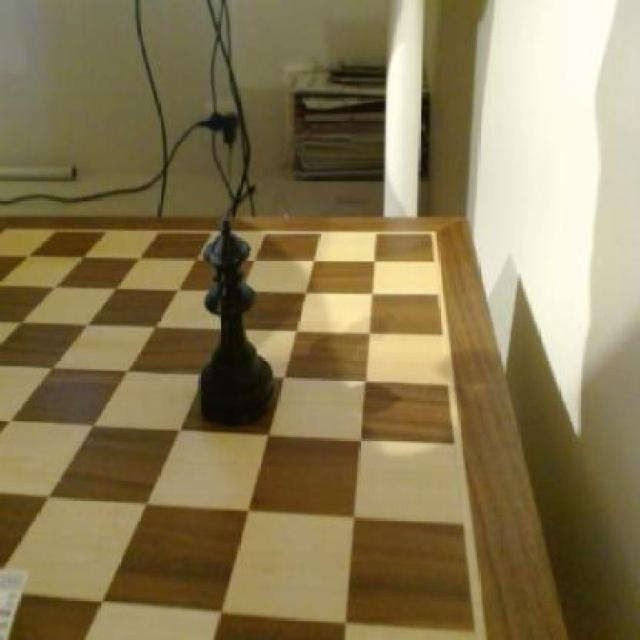black-pawn: (185, 208, 276, 430)
